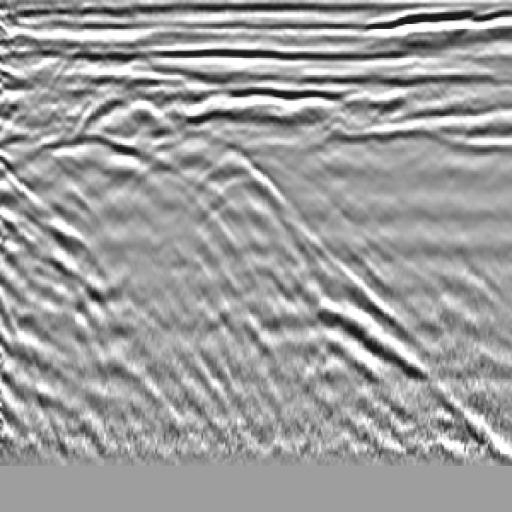non-metallic: (1, 111, 235, 315)
